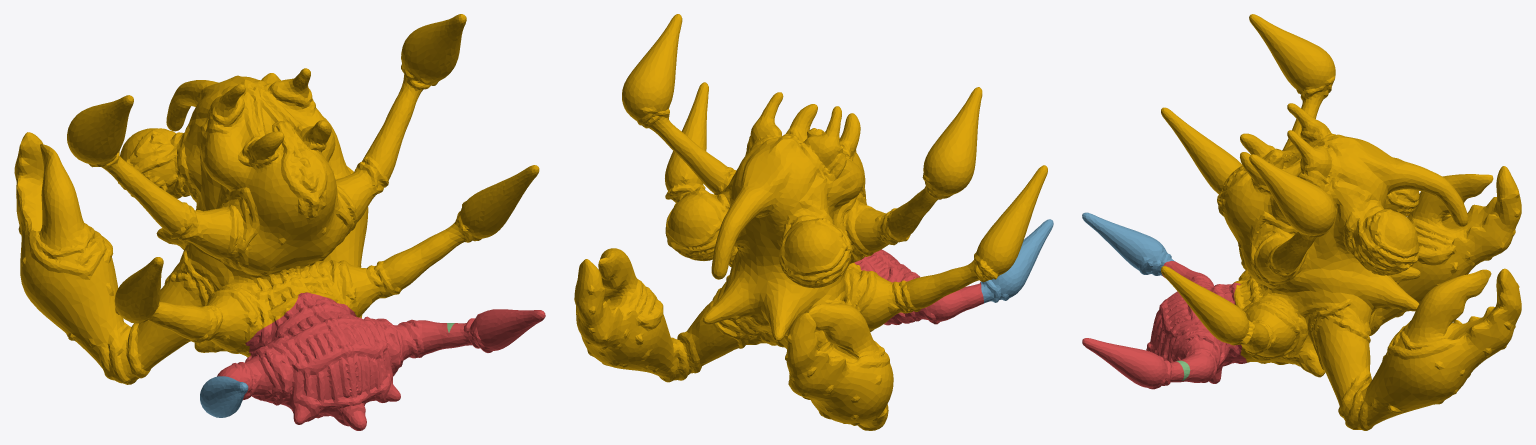
Rendered from fractured_16_4pcs.glb.
3 renders of one model, left to right at view 1: azimuth 30°, elevation 25°; view 2: azimuth 150°, elevation 25°; view 3: azimuth 270°, elevation 25°, orthographic. The views are drawn at different scales.
Visible parts, largest first — view 1: piece_0.obj, piece_1.obj, piece_2.obj; view 2: piece_0.obj, piece_1.obj, piece_2.obj; view 3: piece_0.obj, piece_1.obj, piece_2.obj.
Part boxes in pixels (box(x1,y1,x2,y2)): piece_0.obj: box(14, 14, 539, 384); piece_1.obj: box(217, 292, 545, 430); piece_2.obj: box(200, 376, 248, 417); piece_0.obj: box(574, 14, 1047, 430); piece_1.obj: box(854, 249, 983, 325); piece_2.obj: box(980, 219, 1053, 303); piece_0.obj: box(1161, 14, 1521, 430); piece_1.obj: box(1082, 261, 1246, 389); piece_2.obj: box(1082, 212, 1174, 275).
Bounding box in the file's own units: 0.8751 × 0.7505 × 1.
